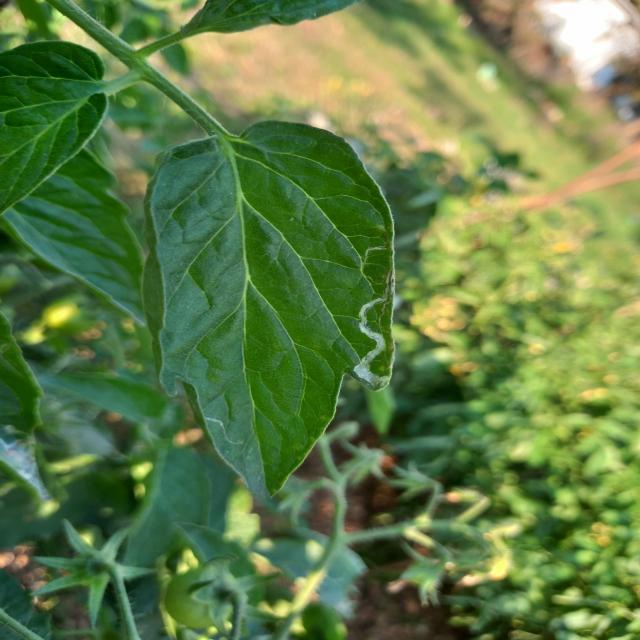Tuta absoluta: (349, 291, 399, 391)
